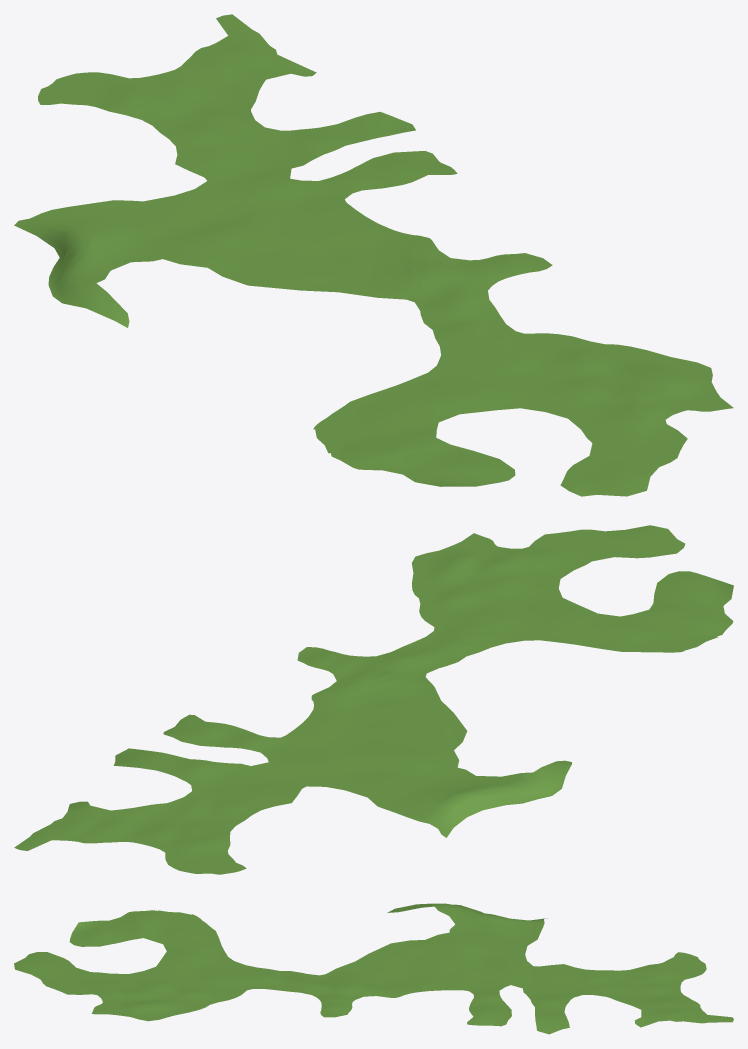
File: Ground Grass_Ground.fbx
The picture shows the model from 3 angles, top to bottom: view 1: azimuth 30°, elevation 25°; view 2: azimuth 150°, elevation 25°; view 3: azimuth 270°, elevation 25°; orthographic projection. The views are drawn at different scales.
Visible parts, largest first — view 1: Ground Grass_Ground; view 2: Ground Grass_Ground; view 3: Ground Grass_Ground.
Part boxes in pixels (bbox=[...]): Ground Grass_Ground: bbox=[14, 14, 733, 496]; Ground Grass_Ground: bbox=[14, 525, 733, 874]; Ground Grass_Ground: bbox=[14, 903, 733, 1034].
Bounding box in the file's own units: 5610 × 188 × 12965.
